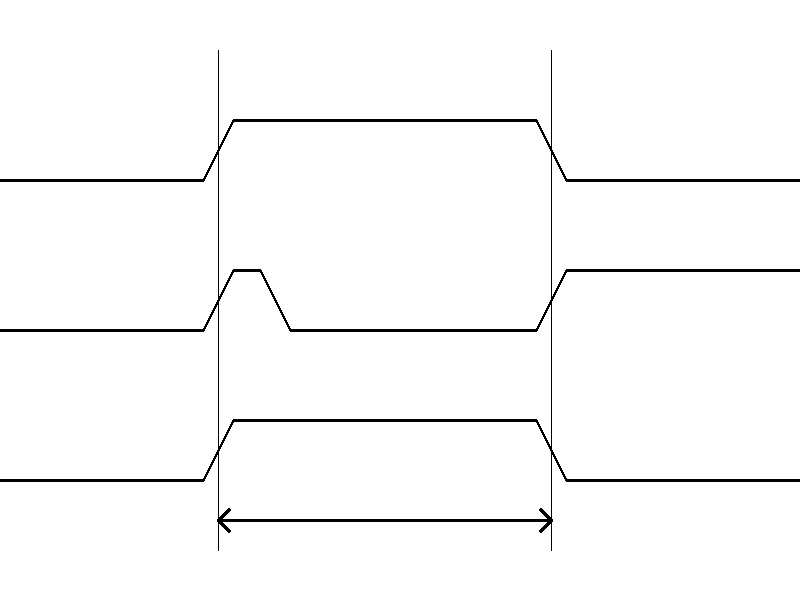double_arrow: (218, 505, 551, 535)
